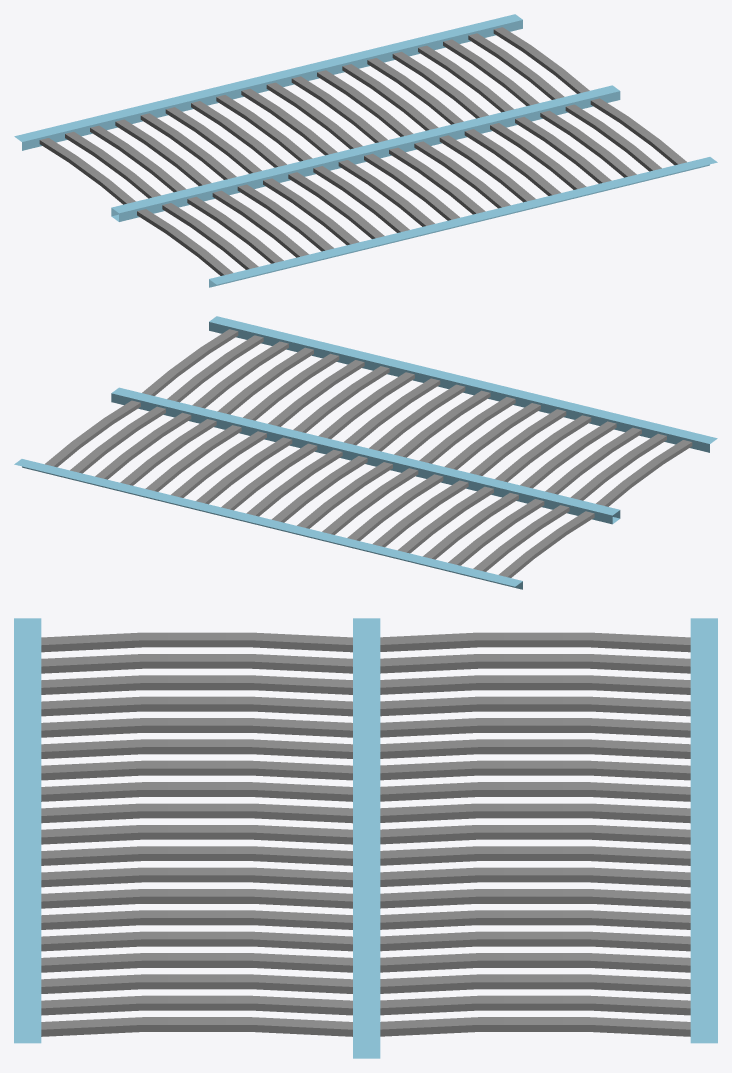
Rendered from FURNITURE_largeBedInside_01.FBX.
3 renders of one model, top to bottom at view 1: azimuth 30°, elevation 25°; view 2: azimuth 150°, elevation 25°; view 3: azimuth 270°, elevation 25°, orthographic. The views are drawn at different scales.
Visible parts, largest first — view 1: FURNITURE_largeBedInside_01; view 2: FURNITURE_largeBedInside_01; view 3: FURNITURE_largeBedInside_01.
Part boxes in pixels (left/top/right/bottom): FURNITURE_largeBedInside_01: left=14, top=14, right=717, bottom=287; FURNITURE_largeBedInside_01: left=14, top=316, right=717, bottom=589; FURNITURE_largeBedInside_01: left=14, top=618, right=717, bottom=1058.
Bounding box in the file's own units: 249 × 4.45 × 174.
